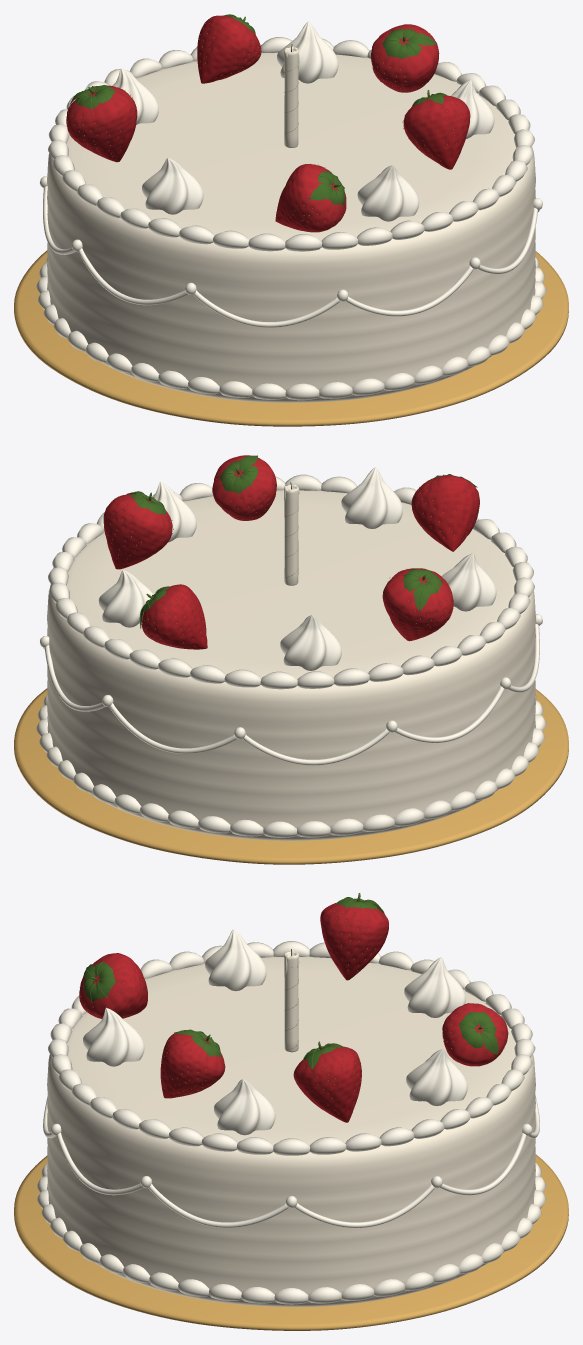
The model's file is cake.glb.
The picture shows the model from 3 angles, top to bottom: view 1: azimuth 30°, elevation 25°; view 2: azimuth 150°, elevation 25°; view 3: azimuth 270°, elevation 25°; orthographic projection.
Visible parts, largest first — view 1: Hand smoothed vanilla buttercream cake, Thin champagne gold cake board, Heart strawberry flesh 03, Heart strawberry flesh 05, Heart strawberry flesh 02, Heart strawberry flesh 04, Heart strawberry flesh 01, Continuous fluted chantilly 04, Continuous fluted chantilly 03, Continuous fluted chantilly 01, Melted cup ivory candle, Continuous fluted chantilly 05 (+14 smaller); view 2: Hand smoothed vanilla buttercream cake, Thin champagne gold cake board, Heart strawberry flesh 04, Heart strawberry flesh 01, Heart strawberry flesh 02, Heart strawberry flesh 03, Heart strawberry flesh 05, Continuous fluted chantilly 04, Continuous fluted chantilly 02, Continuous fluted chantilly 03, Continuous fluted chantilly 01, Melted cup ivory candle (+14 smaller); view 3: Hand smoothed vanilla buttercream cake, Thin champagne gold cake board, Heart strawberry flesh 03, Heart strawberry flesh 01, Heart strawberry flesh 05, Heart strawberry flesh 04, Continuous fluted chantilly 03, Continuous fluted chantilly 04, Continuous fluted chantilly 01, Continuous fluted chantilly 02, Continuous fluted chantilly 05, Heart strawberry flesh 02 (+10 smaller).
Boxes of the visible parts, x1,y1,x2,y2 form: Hand smoothed vanilla buttercream cake: (47, 52, 535, 402); Thin champagne gold cake board: (14, 250, 568, 426); Heart strawberry flesh 03: (66, 85, 137, 162); Heart strawberry flesh 05: (403, 95, 470, 169); Heart strawberry flesh 02: (197, 15, 261, 83); Heart strawberry flesh 04: (275, 164, 346, 232); Heart strawberry flesh 01: (371, 24, 439, 92); Continuous fluted chantilly 04: (357, 165, 419, 221); Continuous fluted chantilly 03: (142, 158, 203, 214); Continuous fluted chantilly 01: (277, 21, 338, 83); Melted cup ivory candle: (284, 47, 298, 147); Continuous fluted chantilly 05: (451, 79, 494, 138); Hand smoothed vanilla buttercream cake: (47, 490, 535, 840); Thin champagne gold cake board: (14, 688, 568, 864); Heart strawberry flesh 04: (411, 475, 479, 551); Heart strawberry flesh 01: (103, 494, 172, 569); Heart strawberry flesh 02: (141, 584, 207, 649); Heart strawberry flesh 03: (382, 568, 453, 641); Heart strawberry flesh 05: (212, 455, 276, 520); Continuous fluted chantilly 04: (341, 467, 402, 528); Continuous fluted chantilly 02: (280, 615, 341, 670); Continuous fluted chantilly 03: (441, 553, 496, 611); Continuous fluted chantilly 01: (98, 570, 153, 627); Melted cup ivory candle: (284, 484, 298, 585); Hand smoothed vanilla buttercream cake: (47, 956, 535, 1306); Thin champagne gold cake board: (14, 1154, 568, 1330); Heart strawberry flesh 03: (320, 900, 388, 980); Heart strawberry flesh 01: (293, 1046, 361, 1122); Heart strawberry flesh 05: (160, 1033, 225, 1098); Heart strawberry flesh 04: (79, 953, 147, 1018); Continuous fluted chantilly 03: (205, 929, 266, 991); Continuous fluted chantilly 04: (83, 1007, 144, 1066); Continuous fluted chantilly 01: (406, 1049, 467, 1105); Continuous fluted chantilly 02: (404, 957, 465, 1017); Continuous fluted chantilly 05: (214, 1079, 275, 1135); Heart strawberry flesh 02: (442, 1003, 508, 1066).
Bounding box in the file's own units: 2.3 × 1.22 × 2.3.
